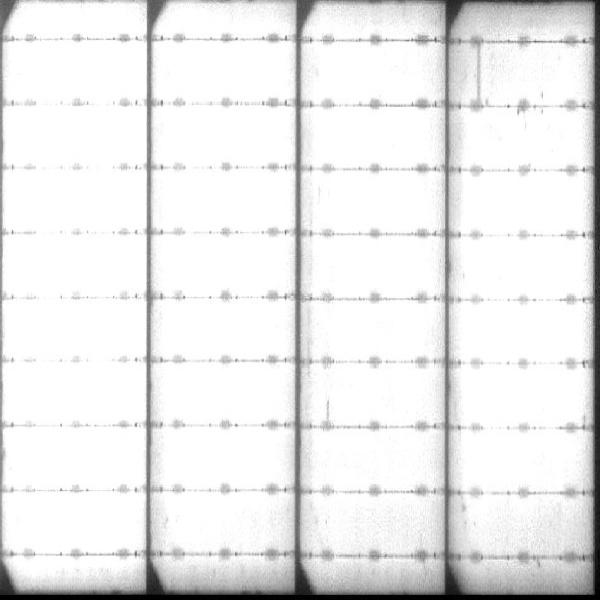hot_spot: (9, 173, 143, 227), (156, 43, 291, 96), (4, 45, 140, 96), (465, 111, 592, 165), (7, 366, 140, 417), (9, 305, 140, 356), (8, 109, 140, 158), (466, 241, 587, 294), (14, 497, 141, 547), (466, 177, 584, 230), (467, 304, 585, 357), (11, 432, 140, 480), (318, 433, 437, 484), (162, 175, 283, 225), (8, 242, 139, 288), (466, 369, 579, 421), (162, 112, 283, 160), (470, 434, 577, 488), (318, 177, 430, 228), (320, 306, 437, 354), (166, 372, 285, 419), (166, 246, 286, 291), (323, 242, 433, 291), (163, 305, 280, 351), (325, 47, 427, 97), (164, 436, 280, 478), (175, 498, 279, 542), (339, 373, 435, 420), (321, 117, 423, 161)
scratch: (469, 37, 484, 108)
